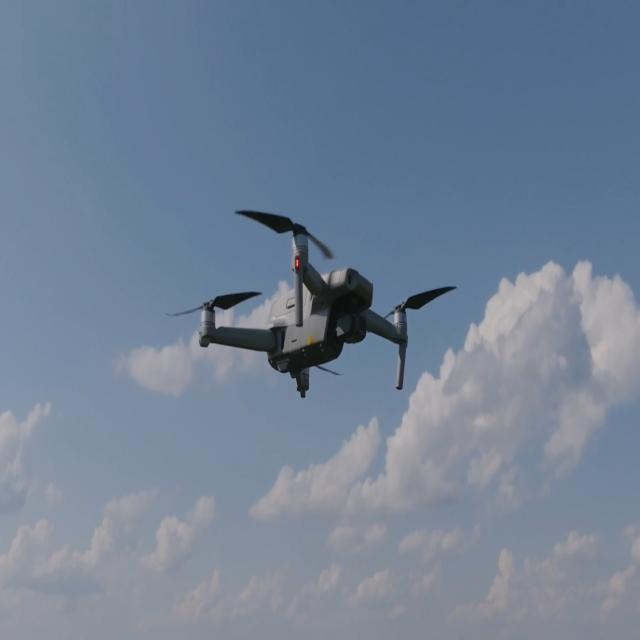Drone: (200, 193, 453, 390)
